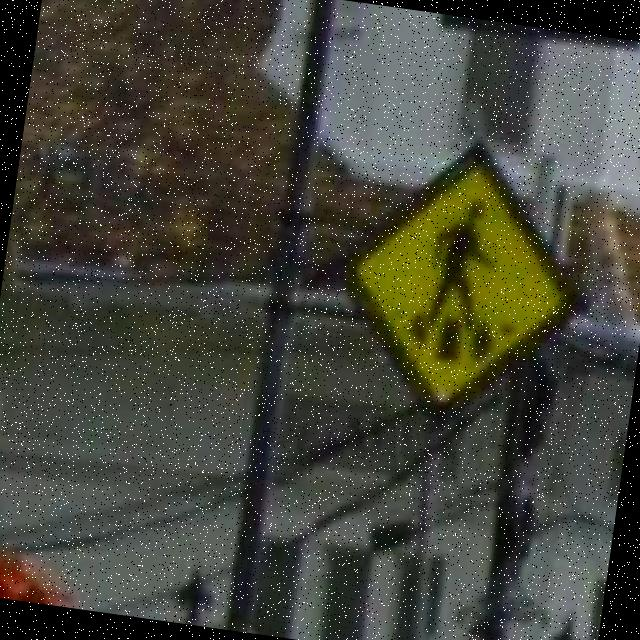Przejscie dla pieszych: (354, 156, 578, 412)
